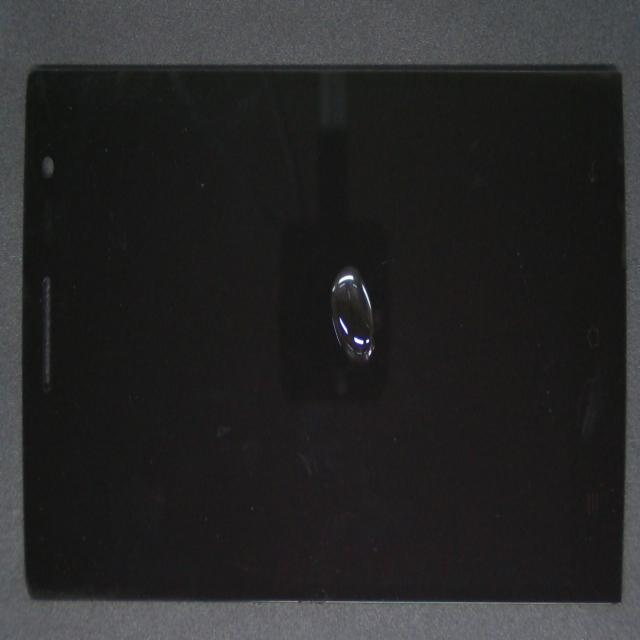oil: (196, 132, 536, 397)
